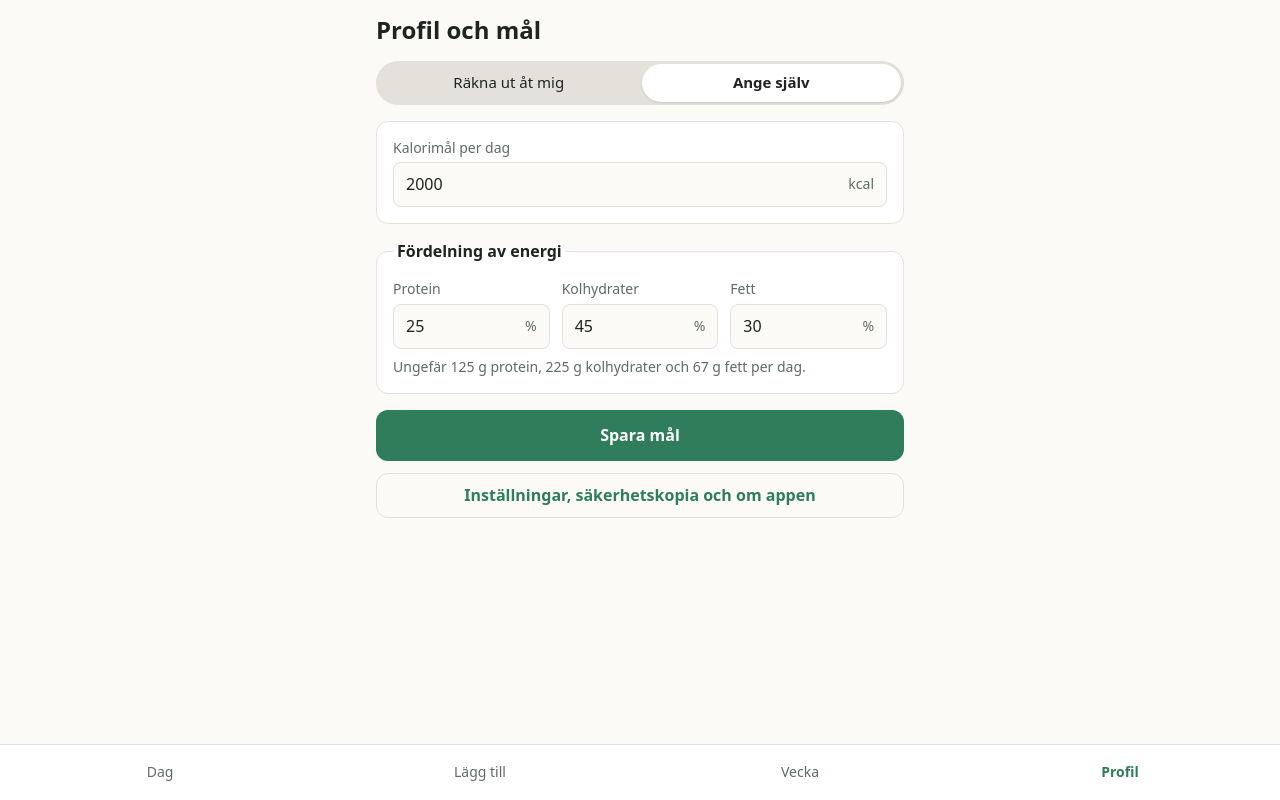
Test: låter användaren ändra målet på profilsidan
Replace the text in the field labelled "Kalorimål per dag" with "1800" at [621, 184], box [394,163,848,206]
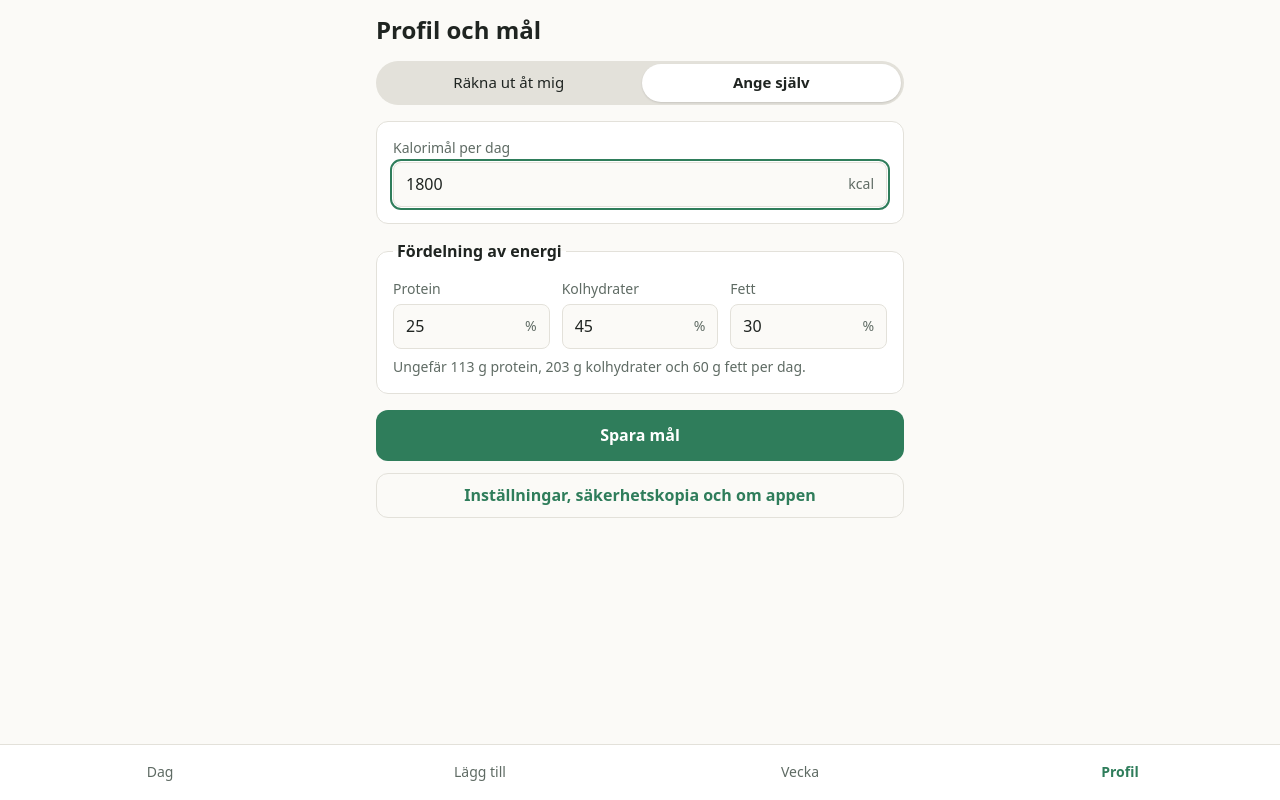
Click the button "Spara mål".
click(640, 436)  # box [376,410,904,461]
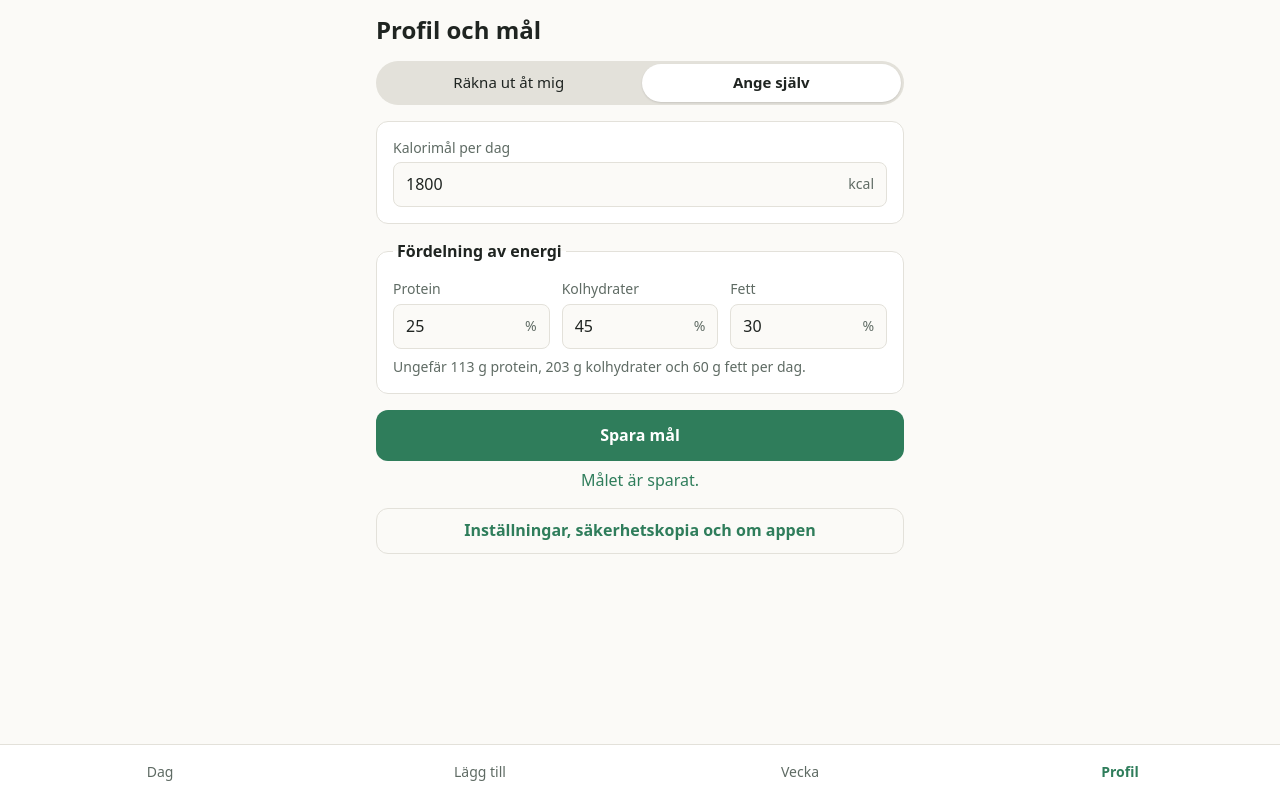
Expected: the message reads "Målet är sparat.", [581,469,699,491]
